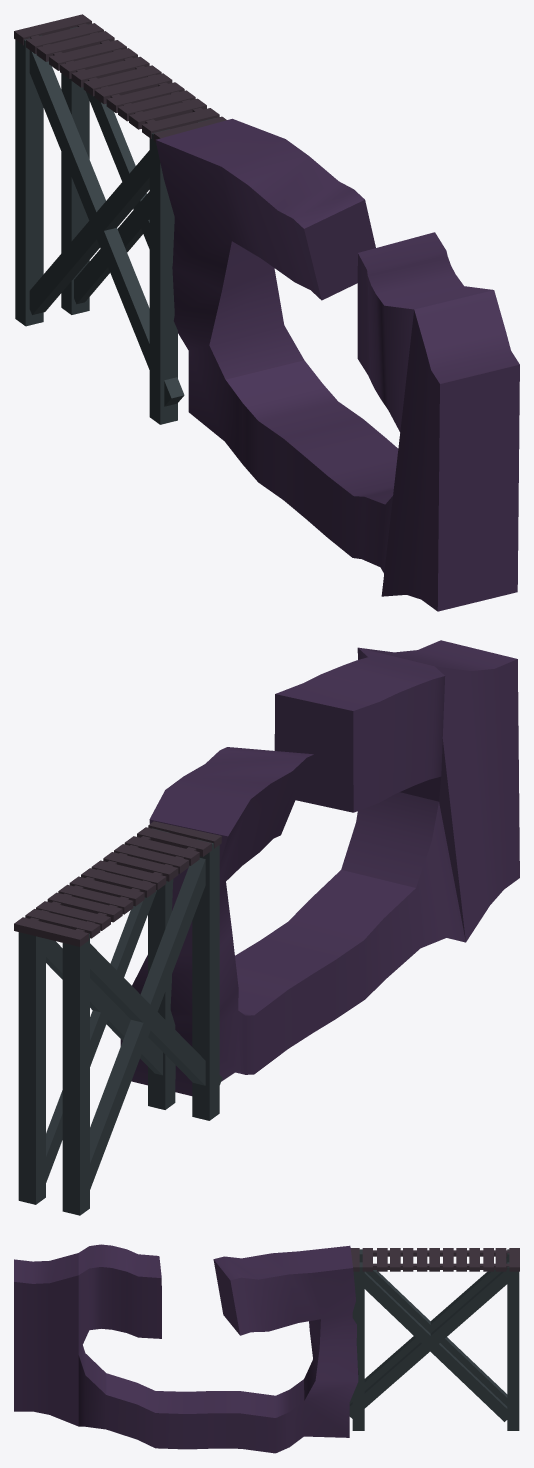
The model's file is cueva.fbx.
The picture shows the model from 3 angles, top to bottom: view 1: azimuth 30°, elevation 25°; view 2: azimuth 150°, elevation 25°; view 3: azimuth 270°, elevation 25°; orthographic projection. The views are drawn at different scales.
Parts seen in each view (by area): view 1: pCube1, pCube29, pCube28, pCube18; view 2: pCube1, pCube29, pCube28, pCube18; view 3: pCube1, pCube28, pCube29, pCube18.
Boxes of the visible parts, x1,y1,x2,y2 form: pCube1: (155,118,519,611); pCube29: (15,24,215,424); pCube28: (29,50,184,406); pCube18: (14,14,226,142); pCube1: (120,640,519,1095); pCube29: (18,828,219,1215); pCube28: (46,858,222,1189); pCube18: (14,821,221,946); pCube1: (14,1244,358,1453); pCube28: (349,1256,507,1421); pCube29: (352,1249,519,1430); pCube18: (350,1248,519,1271).
Size of the model in its own units: 4.92 by 10.32 by 26.7.
